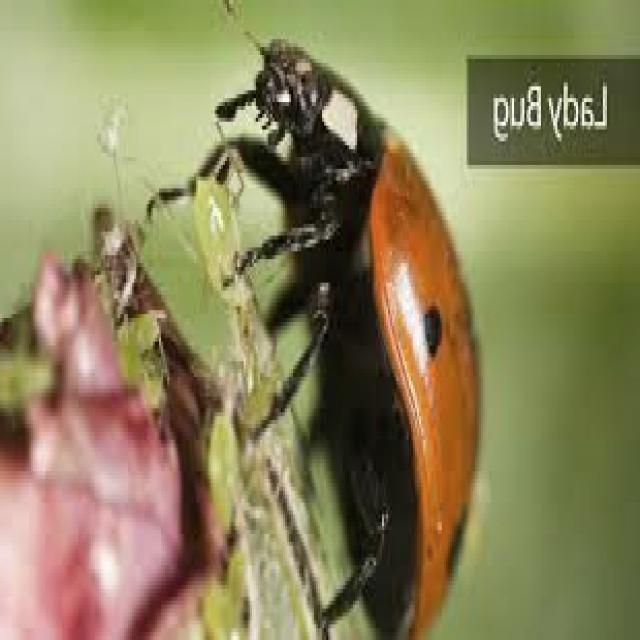ladybug: (200, 39, 479, 632)
